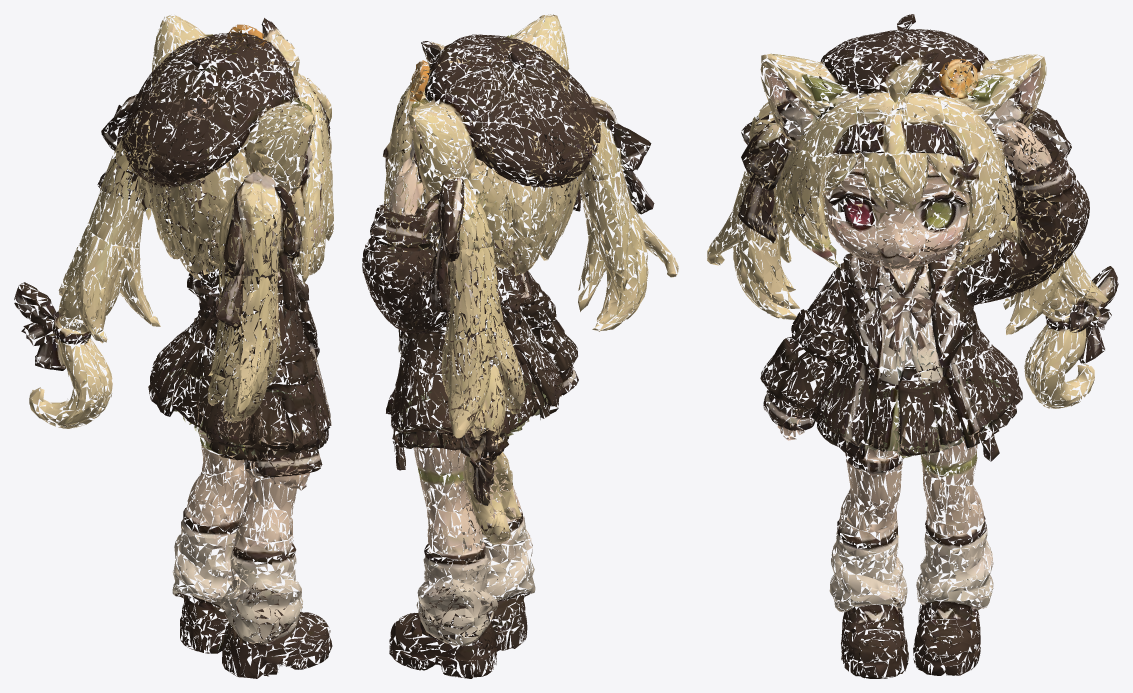
Rendered from anm_asset_009.glb.
The picture shows the model from 3 angles, left to right: view 1: azimuth 30°, elevation 25°; view 2: azimuth 150°, elevation 25°; view 3: azimuth 270°, elevation 25°; orthographic projection.
Visible parts, largest first — view 1: tripo_node_b20770e4-5c1b-4f9c-9cea-ca49c5fd310f; view 2: tripo_node_b20770e4-5c1b-4f9c-9cea-ca49c5fd310f; view 3: tripo_node_b20770e4-5c1b-4f9c-9cea-ca49c5fd310f.
Boxes of the visible parts, box(x1,y1,x2,y2) form: tripo_node_b20770e4-5c1b-4f9c-9cea-ca49c5fd310f: box(14, 15, 333, 678); tripo_node_b20770e4-5c1b-4f9c-9cea-ca49c5fd310f: box(362, 14, 678, 678); tripo_node_b20770e4-5c1b-4f9c-9cea-ca49c5fd310f: box(707, 14, 1118, 678).
Bounding box in the file's own units: 0.349 × 0.98 × 0.5954.
1 material, 1 textured.
